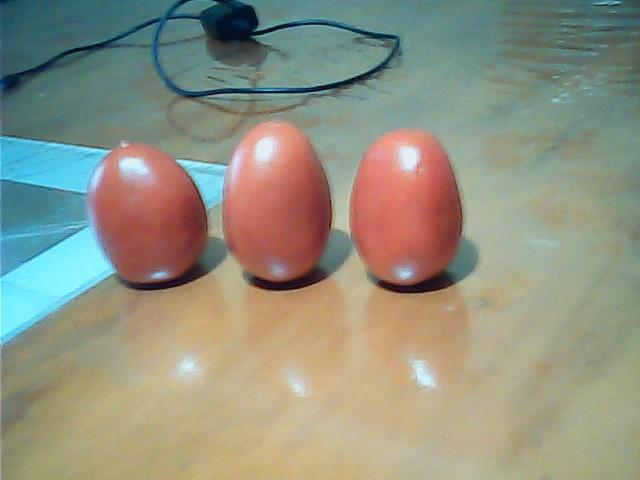maduro: (348, 127, 464, 292), (223, 121, 328, 287), (90, 137, 203, 287)
